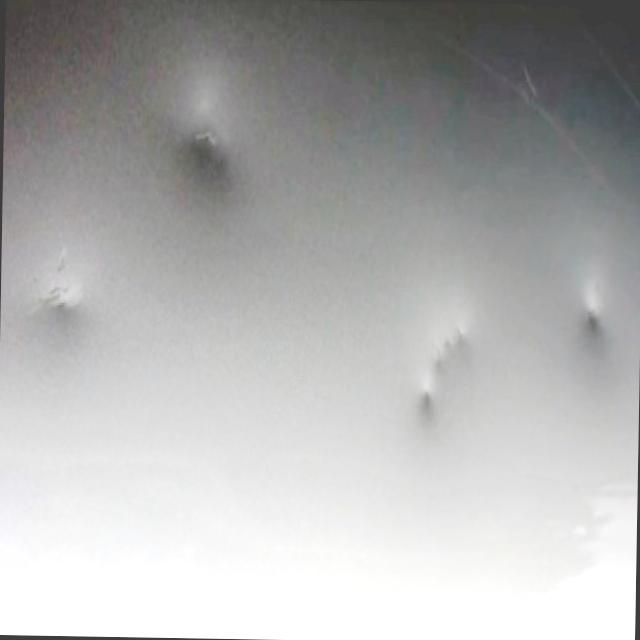dent: (424, 287, 486, 415), (175, 94, 252, 186), (40, 255, 89, 309), (576, 286, 608, 351)
